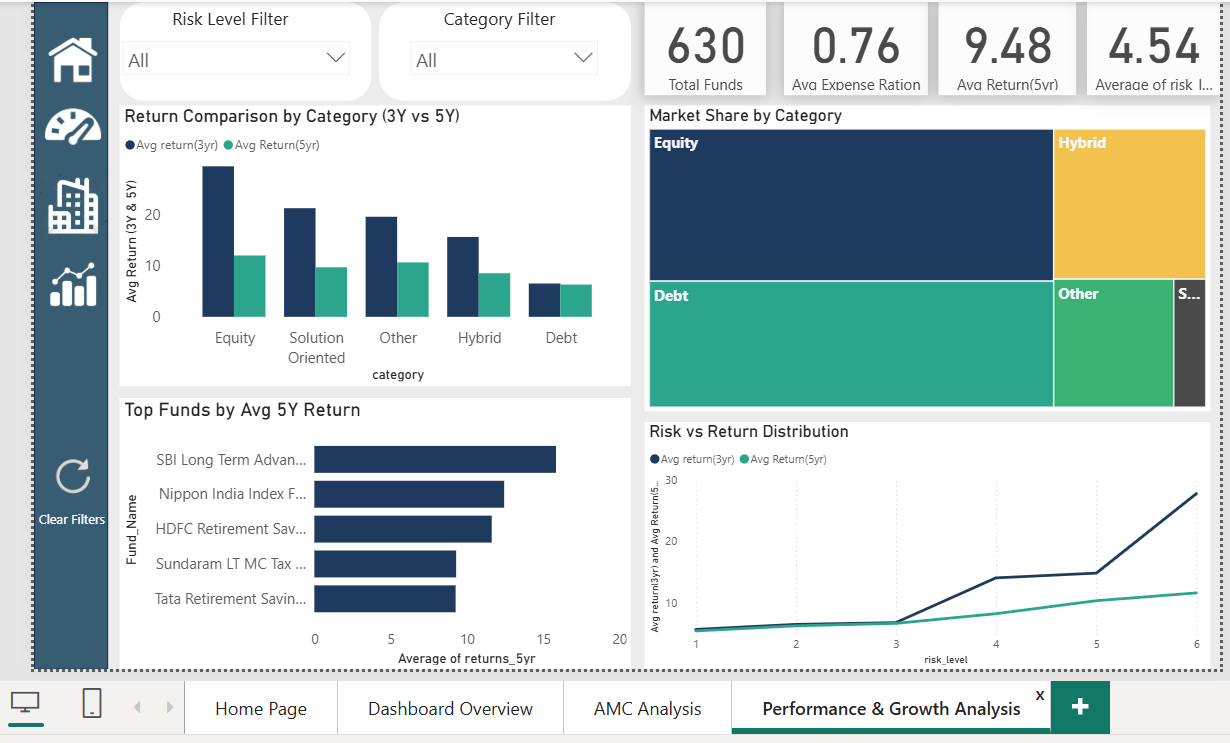

The dashboard page shown, as its layout file describes it:
{"tool":"powerbi","page":{"name":"Performance & Growth  Analysis","canvas":[1280,720],"ordinal":3},"visuals":[{"type":"shape","box":[0,0,80,720.6],"z":0},{"type":"clusteredColumnChart","title":"Return Comparison by Category (3Y vs 5Y)","fields":{"Category":["Sheet1.category"],"Y":["Sheet1.Avg return(3yr)","Sheet1.Avg Return(5yr)"]},"box":[92.3,111.7,552.2,302.8],"z":1000},{"type":"clusteredBarChart","title":"Top Funds by Avg 5Y Return","fields":{"Category":["Sheet1.Fund_Name"],"Y":["Avg(Sheet1.returns_5yr)"]},"box":[92.3,427.5,552.2,293.1],"z":2000},{"type":"card","fields":{"Values":["Sheet1.Total Funds"]},"box":[659,0,131.2,100.4],"z":3000},{"type":"card","fields":{"Values":["Sheet1.Avg Expense Ration"]},"box":[809.6,0,155.4,100.4],"z":4000},{"type":"card","fields":{"Values":["Sheet1.Avg Return(5yr)"]},"box":[976.4,0,149,100.4],"z":5000},{"type":"lineChart","title":"Risk vs Return Distribution","fields":{"Y":["Sheet1.Avg return(3yr)","Sheet1.Avg Return(5yr)"],"Category":["Sheet1.risk_level"]},"box":[659,453.4,610.4,267.2],"z":6000},{"type":"shape","box":[92.3,0,272,106.9],"z":7000},{"type":"textbox","box":[144.1,0,149,42.1],"z":8000},{"type":"slicer","fields":{"Values":["Sheet1.risk_level"]},"box":[85.8,32.4,265.6,56.7],"z":9000},{"type":"shape","box":[372.4,0,272,106.9],"z":10000},{"type":"textbox","box":[437.2,0,142.5,42.1],"z":11000},{"type":"slicer","fields":{"Values":["Sheet1.category"]},"box":[396.7,32.4,221.8,51.8],"z":12000},{"type":"treemap","title":"Market Share by Category","fields":{"Group":["Sheet1.category"],"Values":["Sheet1.Fund Count"]},"box":[659,111.7,610.4,330.3],"z":13000},{"type":"card","fields":{"Values":["Avg(Sheet1.risk_level)"]},"box":[1136.7,0,144.1,100.4],"z":14000},{"type":"image","box":[6.5,30.8,71.2,63.1],"z":15000},{"type":"image","box":[6.5,98.8,71.2,71.2],"z":16000},{"type":"image","box":[0,179.7,84.2,82.6],"z":17000},{"type":"image","box":[0,262.3,84.2,84.2],"z":18000},{"type":"image","box":[9.7,479.3,63.1,63.1],"z":19000},{"type":"textbox","box":[0,542.4,92.3,45.3],"z":20000}]}

Visuals, with their boxes on the page's 1280x720 design canvas (x1, y1, x2, y2). These are canvas units, not pixel positions in the 1230x743 screenshot, which may show the page scaled, cropped or inside an application window:
shape: select_region(0, 0, 80, 721)
"Return Comparison by Category (3Y vs 5Y)" clusteredColumnChart: select_region(92, 112, 644, 414)
"Top Funds by Avg 5Y Return" clusteredBarChart: select_region(92, 428, 644, 721)
card - Sheet1.Total Funds: select_region(659, 0, 790, 100)
card - Sheet1.Avg Expense Ration: select_region(810, 0, 965, 100)
card - Sheet1.Avg Return(5yr): select_region(976, 0, 1125, 100)
"Risk vs Return Distribution" lineChart: select_region(659, 453, 1269, 721)
shape: select_region(92, 0, 364, 107)
textbox: select_region(144, 0, 293, 42)
slicer - Sheet1.risk_level: select_region(86, 32, 351, 89)
shape: select_region(372, 0, 644, 107)
textbox: select_region(437, 0, 580, 42)
slicer - Sheet1.category: select_region(397, 32, 618, 84)
"Market Share by Category" treemap: select_region(659, 112, 1269, 442)
card - Avg(Sheet1.risk_level): select_region(1137, 0, 1281, 100)
image: select_region(6, 31, 78, 94)
image: select_region(6, 99, 78, 170)
image: select_region(0, 180, 84, 262)
image: select_region(0, 262, 84, 346)
image: select_region(10, 479, 73, 542)
textbox: select_region(0, 542, 92, 588)
